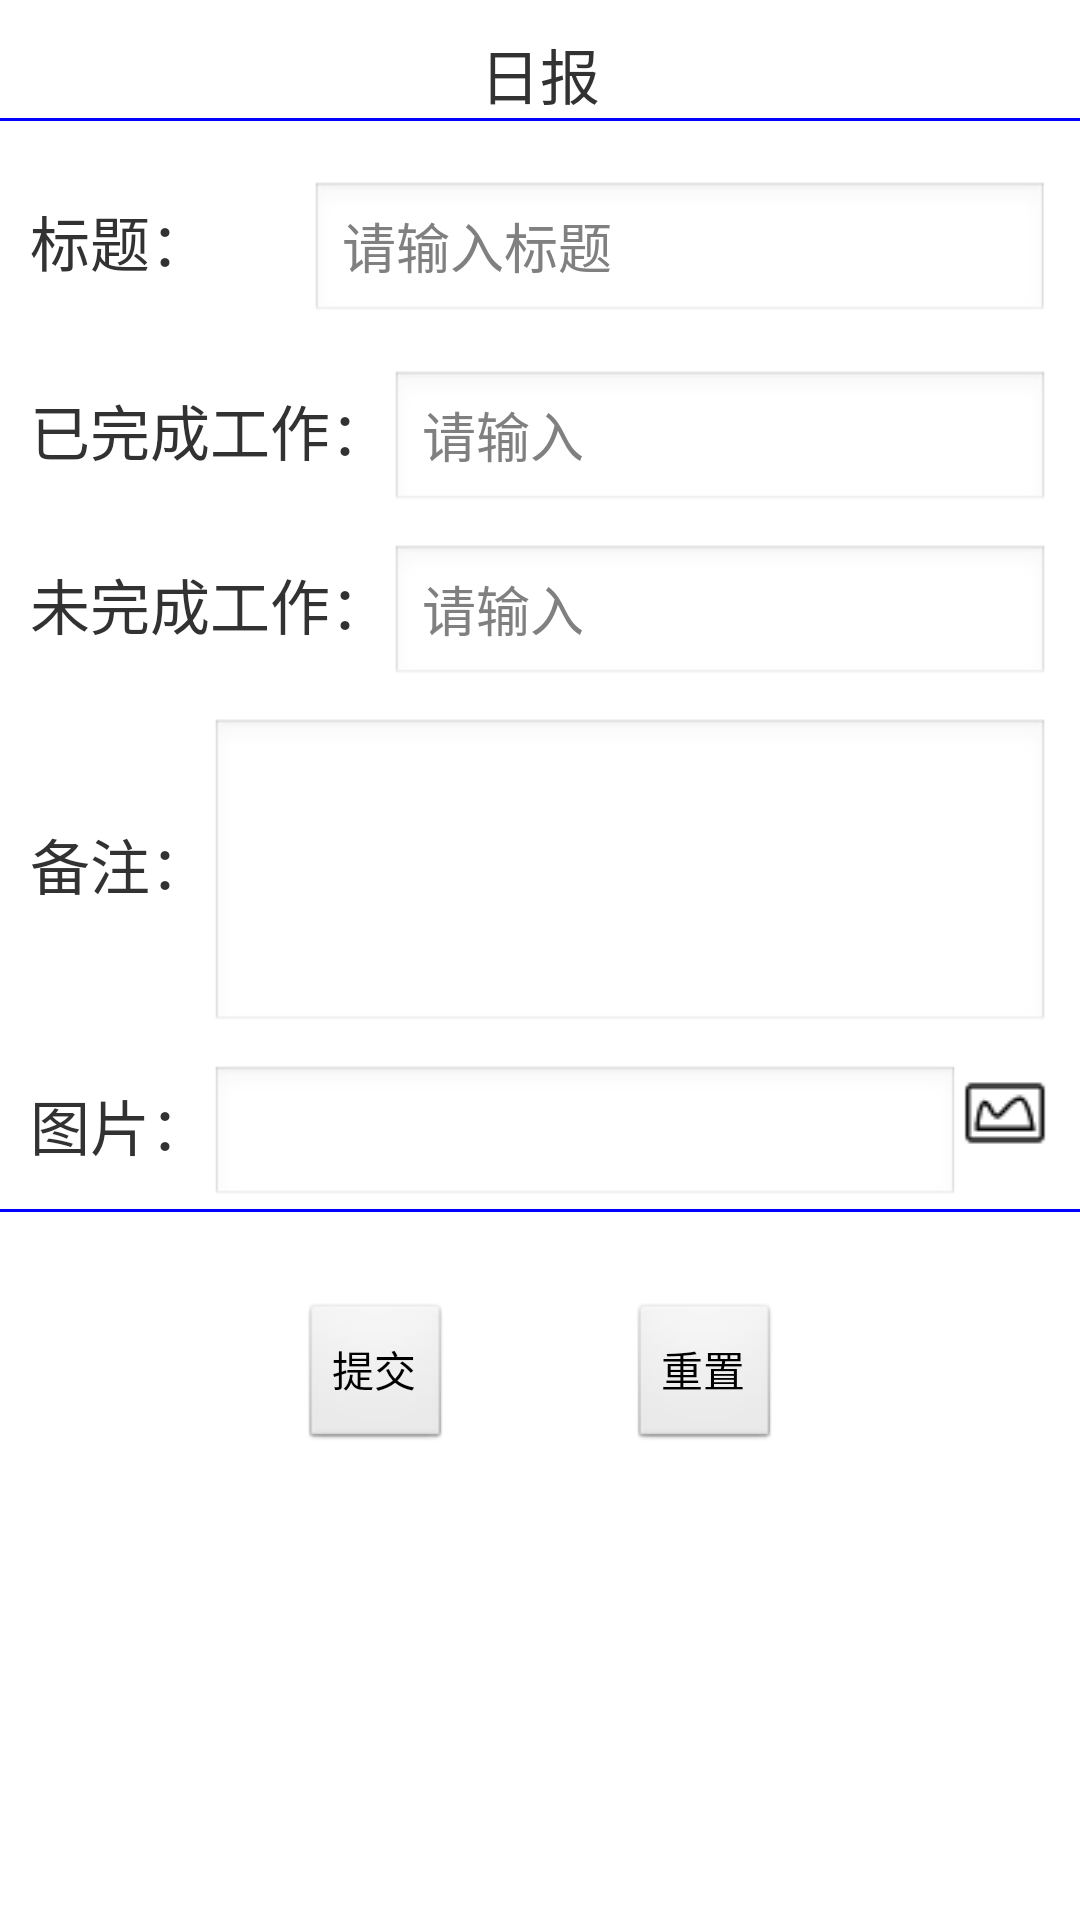

Where icons sit on this 1080px x 1920px app screen, as (x1, y1, x2, y2):
pic select: (964, 1082, 1046, 1144)
